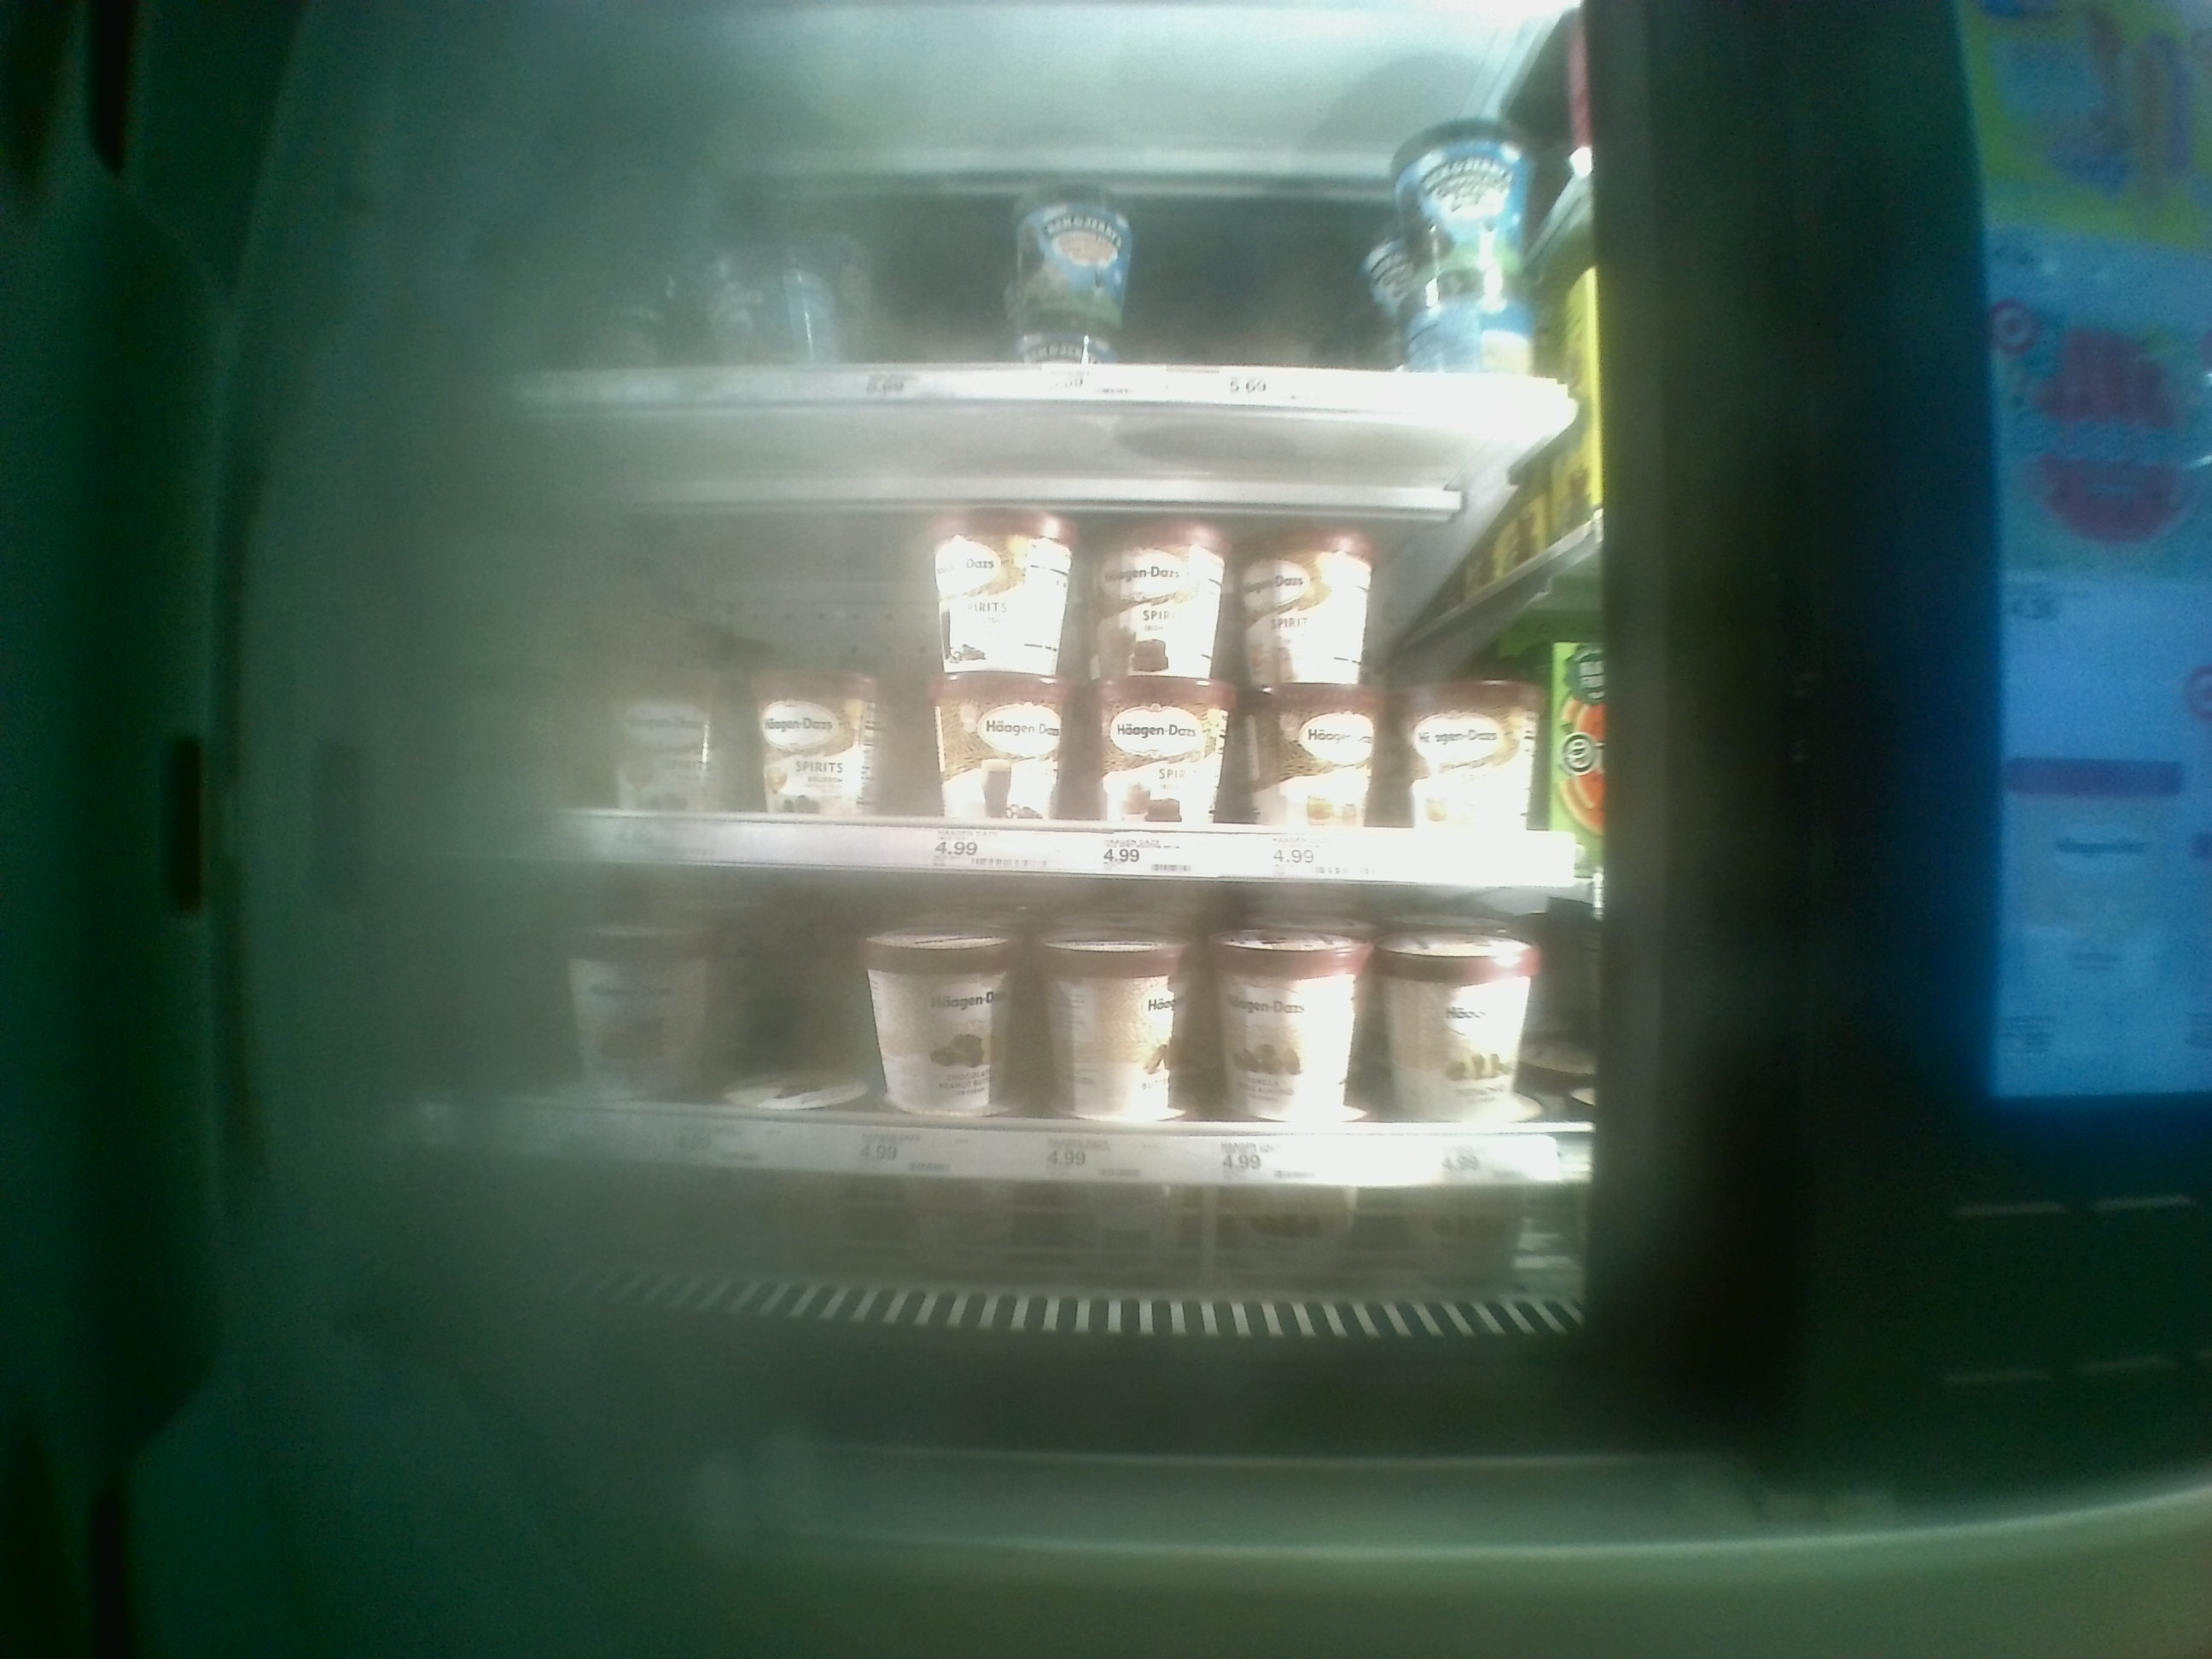shelf: (509, 491, 1561, 885), (421, 871, 1599, 1188)
